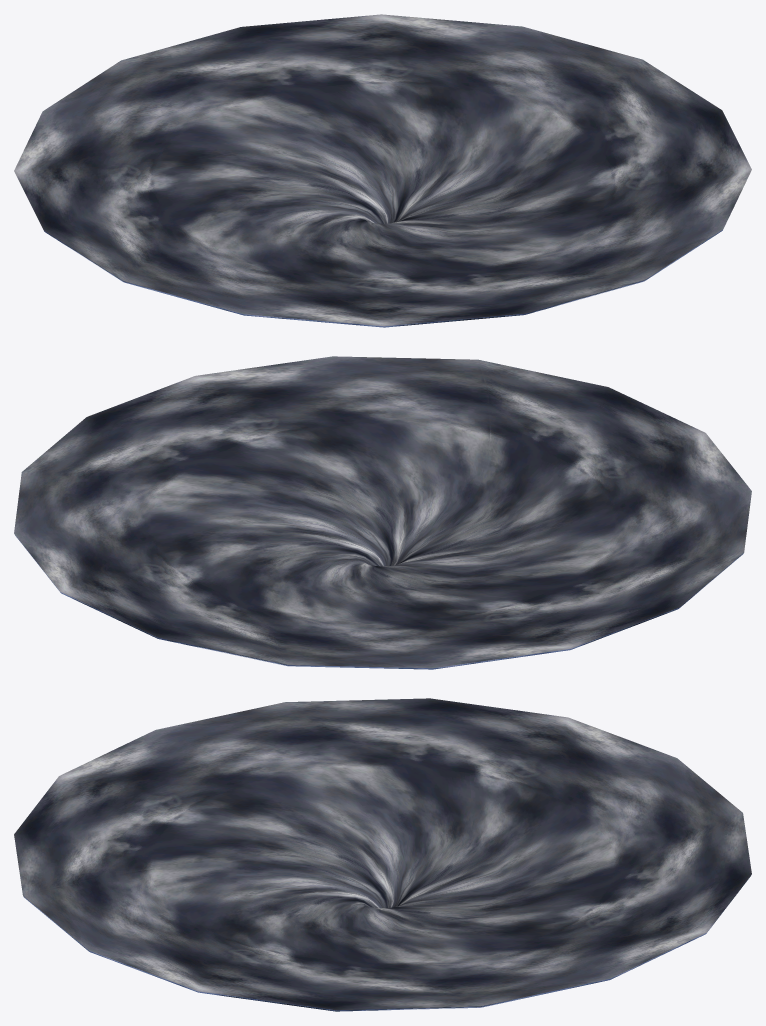
Rendered from RM_WHIRLPOOL.fbx.
3 renders of one model, top to bottom at view 1: azimuth 30°, elevation 25°; view 2: azimuth 150°, elevation 25°; view 3: azimuth 270°, elevation 25°, orthographic.
Visible parts, largest first — view 1: RM_WHIRLPOOL; view 2: RM_WHIRLPOOL; view 3: RM_WHIRLPOOL.
Part boxes in pixels (box(x1,y1,x2,y2)): RM_WHIRLPOOL: box(14, 14, 751, 327); RM_WHIRLPOOL: box(14, 356, 751, 669); RM_WHIRLPOOL: box(14, 698, 751, 1011).
Size of the model in its own units: 411598 by 46170 by 411598.
3 materials, 3 textured.
